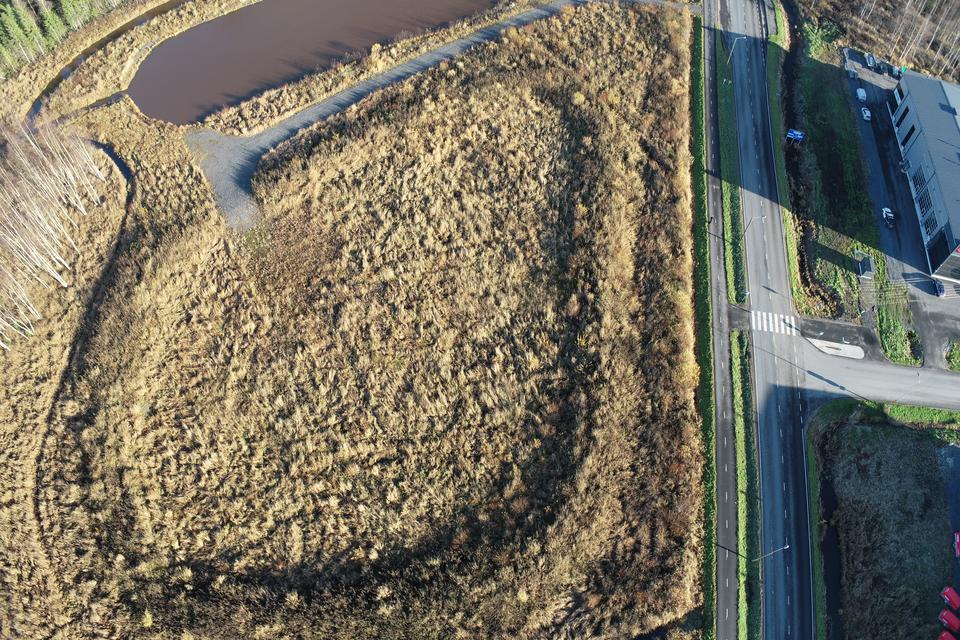intersection: (693, 302, 873, 441), (669, 0, 784, 50)
